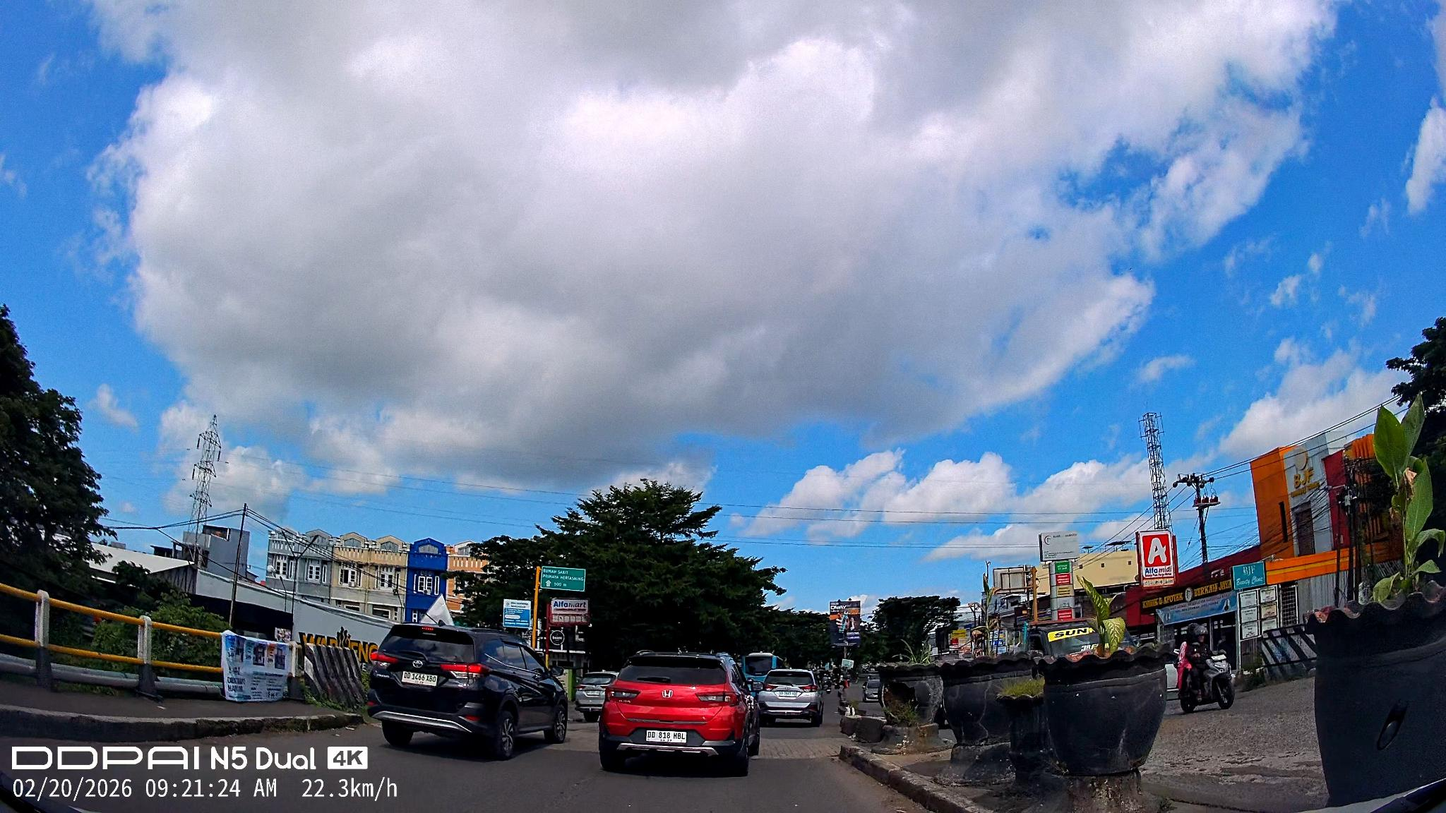rambu_teks: (540, 565, 586, 592)
